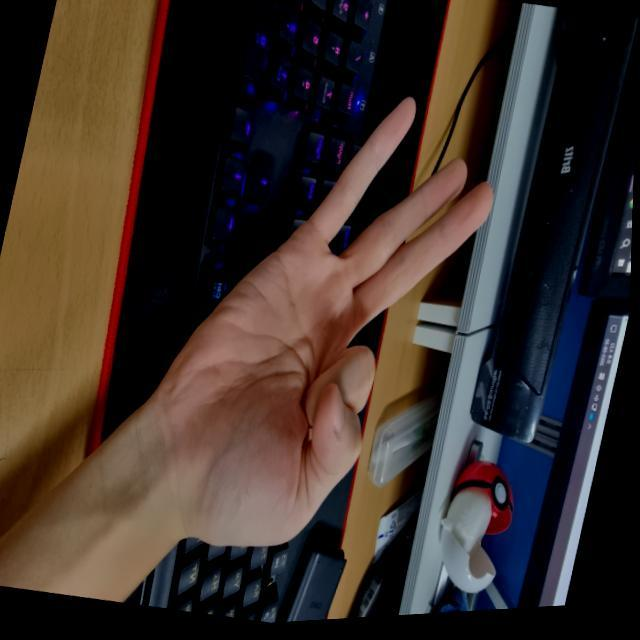keyboard-with-hands: (143, 0, 392, 621)
